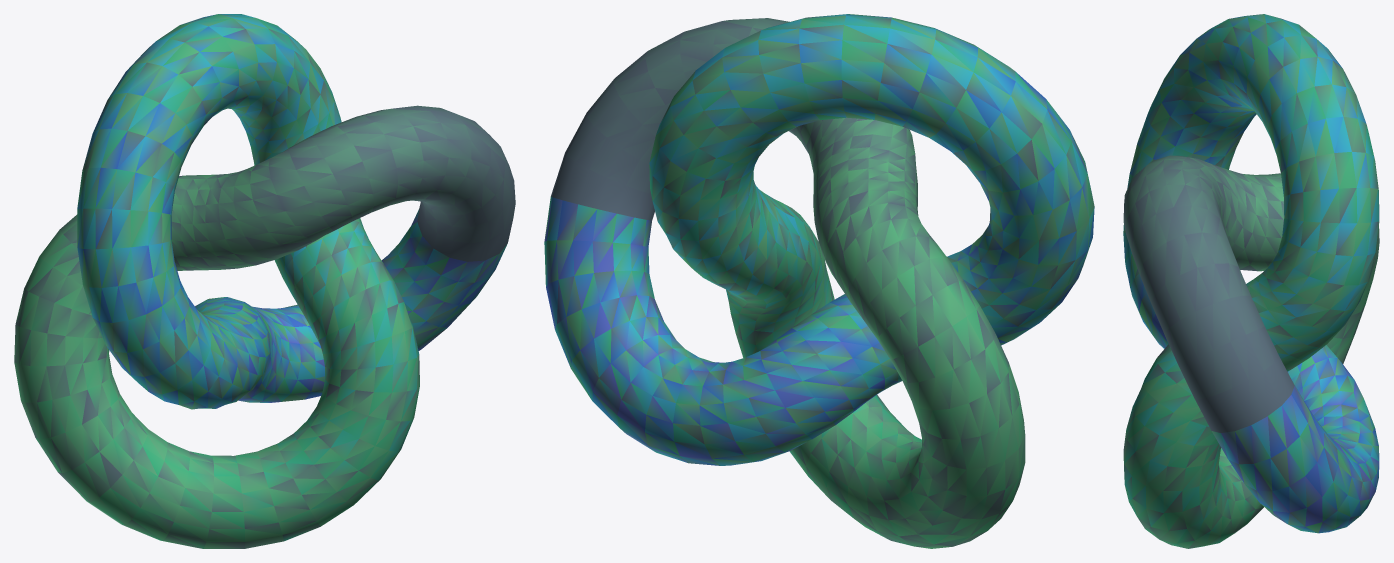
Rendered from TorusKnotBufferMesh.gltf.
The picture shows the model from 3 angles, left to right: view 1: azimuth 30°, elevation 25°; view 2: azimuth 150°, elevation 25°; view 3: azimuth 270°, elevation 25°; orthographic projection. The views are drawn at different scales.
Bounding box in the file's own units: 32.78 × 34.17 × 15.92.
